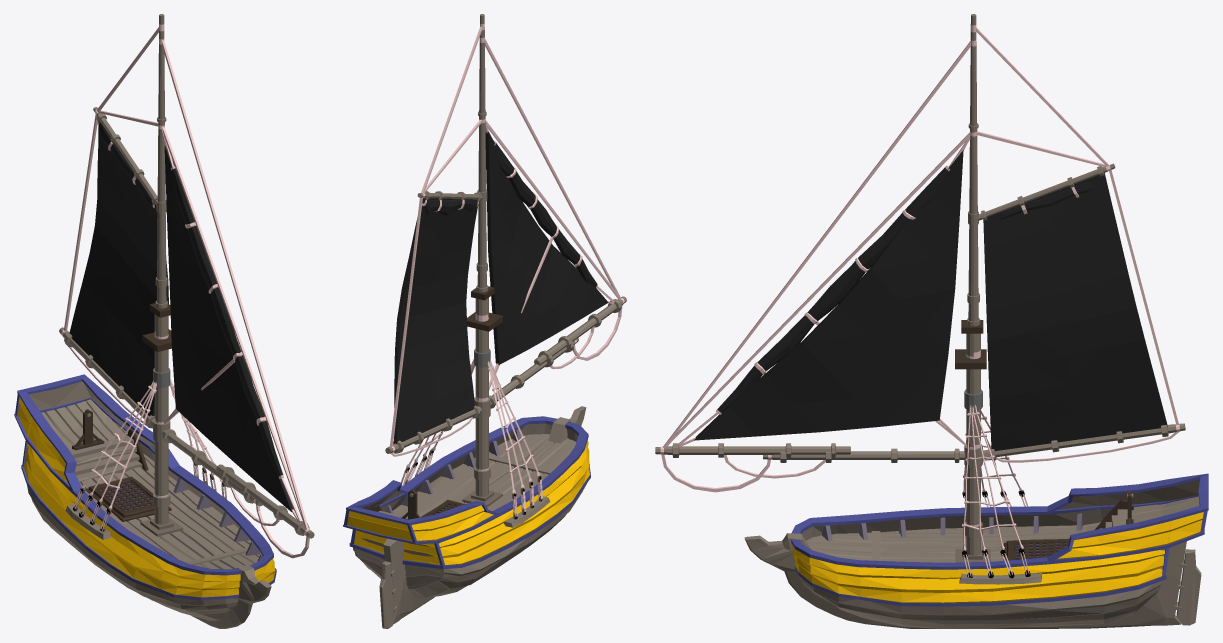
File: SM_Veh_Boat_Medium_01_Hull.glb
3 views of the same model, side by side, from view 1: azimuth 30°, elevation 25°; view 2: azimuth 150°, elevation 25°; view 3: azimuth 270°, elevation 25° (orthographic). The views are drawn at different scales.
Visible parts, largest first — view 1: SM_Veh_Boat_Medium_01_Hull_00, SM_Veh_Boat_Medium_01_Hull_03, SM_Veh_Boat_Medium_01_Hull_01, SM_Veh_Boat_Medium_01_Hull_02; view 2: SM_Veh_Boat_Medium_01_Hull_00, SM_Veh_Boat_Medium_01_Hull_03, SM_Veh_Boat_Medium_01_Hull_02, SM_Veh_Boat_Medium_01_Hull_01; view 3: SM_Veh_Boat_Medium_01_Hull_03, SM_Veh_Boat_Medium_01_Hull_00, SM_Veh_Boat_Medium_01_Hull_01, SM_Veh_Boat_Medium_01_Hull_02.
Part boxes in pixels (x1,y1,x2,y2): SM_Veh_Boat_Medium_01_Hull_00: [14, 374, 276, 628]; SM_Veh_Boat_Medium_01_Hull_03: [69, 122, 294, 511]; SM_Veh_Boat_Medium_01_Hull_01: [60, 15, 314, 557]; SM_Veh_Boat_Medium_01_Hull_02: [59, 14, 313, 558]; SM_Veh_Boat_Medium_01_Hull_00: [343, 359, 590, 628]; SM_Veh_Boat_Medium_01_Hull_03: [393, 132, 608, 444]; SM_Veh_Boat_Medium_01_Hull_02: [385, 14, 625, 496]; SM_Veh_Boat_Medium_01_Hull_01: [390, 15, 626, 494]; SM_Veh_Boat_Medium_01_Hull_03: [694, 150, 1167, 451]; SM_Veh_Boat_Medium_01_Hull_00: [744, 405, 1208, 628]; SM_Veh_Boat_Medium_01_Hull_01: [655, 16, 1180, 555]; SM_Veh_Boat_Medium_01_Hull_02: [655, 14, 1185, 555].
Size of the model in its own units: 5.07 by 20.84 by 17.04.
1 material, 1 textured.
